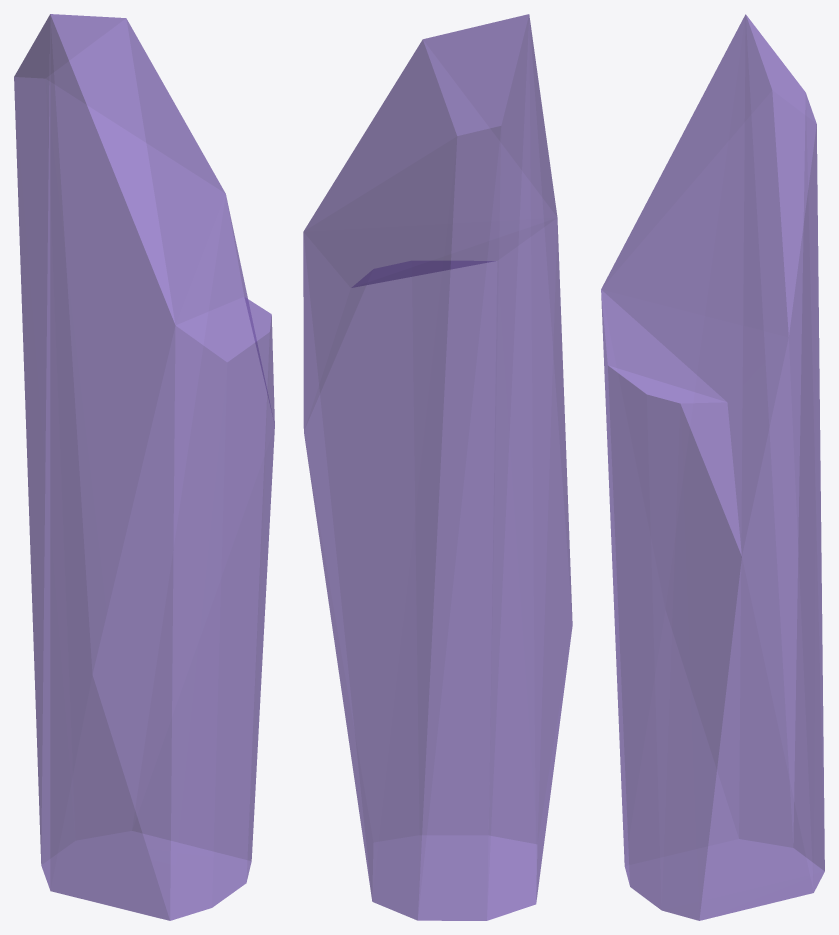
The model's file is Crystal_New_02.fbx.
3 views of the same model, side by side, from view 1: azimuth 30°, elevation 25°; view 2: azimuth 150°, elevation 25°; view 3: azimuth 270°, elevation 25° (orthographic). The views are drawn at different scales.
Parts seen in each view (by area): view 1: Model; view 2: Model; view 3: Model.
Part boxes in pixels (left/top/right/bottom): Model: left=14, top=14, right=274, bottom=920; Model: left=303, top=14, right=572, bottom=920; Model: left=601, top=14, right=824, bottom=920.
Bounding box in the file's own units: 65.25 × 240 × 58.87.
